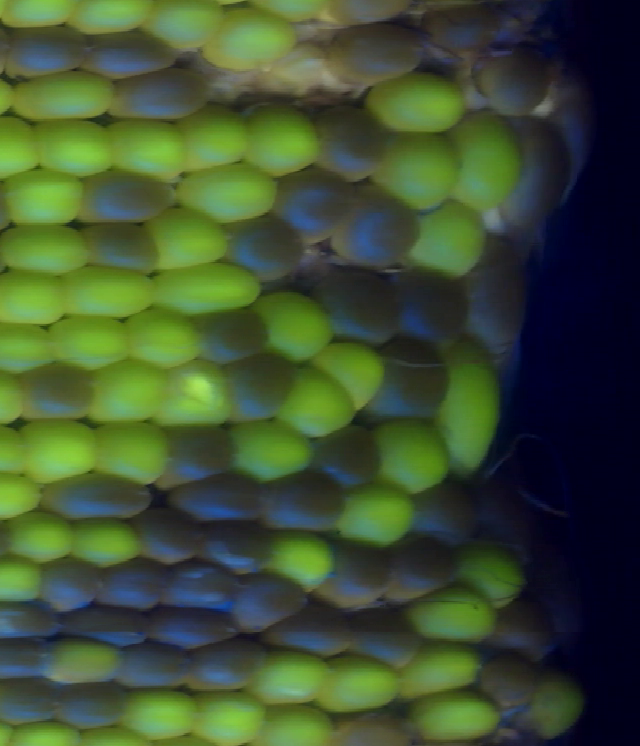fluorescent: (440, 347, 500, 476), (378, 136, 461, 217), (454, 111, 521, 211), (180, 163, 277, 225), (373, 414, 447, 493), (368, 72, 462, 134), (404, 582, 496, 645), (203, 6, 294, 69), (413, 202, 488, 277), (227, 419, 316, 481), (243, 105, 318, 177), (278, 365, 353, 437), (10, 73, 113, 124), (318, 651, 403, 712), (89, 357, 169, 421), (93, 423, 170, 488), (153, 265, 259, 312), (113, 117, 187, 184), (314, 342, 384, 412), (59, 265, 155, 316), (35, 118, 115, 179), (147, 207, 228, 267), (261, 291, 331, 360), (336, 486, 415, 547), (4, 167, 84, 227), (159, 361, 232, 426), (23, 420, 93, 486), (408, 697, 504, 745), (0, 224, 90, 275), (250, 651, 332, 706), (52, 317, 132, 373), (260, 531, 334, 591), (128, 309, 203, 368), (461, 542, 528, 606), (181, 107, 246, 172), (195, 688, 267, 746), (0, 265, 61, 326), (398, 644, 477, 690), (140, 2, 220, 46), (122, 690, 195, 737), (48, 638, 118, 687), (75, 520, 142, 569), (11, 514, 75, 563), (258, 707, 336, 746), (73, 1, 148, 36), (0, 324, 52, 372), (0, 473, 43, 521), (0, 557, 41, 607), (0, 121, 38, 172)
nonfluorescent: (462, 232, 524, 362), (501, 117, 568, 232), (364, 337, 449, 420), (339, 187, 420, 272), (319, 270, 398, 345), (274, 167, 352, 242), (39, 474, 158, 523), (327, 23, 428, 80), (255, 467, 343, 532), (397, 267, 467, 342), (321, 536, 390, 612), (104, 72, 208, 122), (473, 44, 547, 112), (231, 568, 310, 631), (81, 170, 173, 223), (318, 108, 383, 183), (163, 475, 264, 523), (228, 215, 299, 282), (84, 27, 175, 79), (3, 23, 91, 76), (226, 351, 288, 425), (393, 534, 459, 602), (412, 481, 470, 557), (267, 609, 358, 657), (23, 364, 95, 422), (313, 427, 380, 489), (163, 424, 233, 483), (348, 610, 420, 667), (195, 311, 270, 365), (83, 224, 163, 274), (149, 607, 236, 652), (62, 606, 153, 648), (486, 602, 553, 659), (98, 559, 168, 612), (116, 642, 191, 691), (137, 509, 205, 562), (191, 642, 263, 692), (204, 522, 272, 574), (478, 650, 534, 711), (35, 558, 100, 610), (168, 558, 233, 610), (0, 676, 62, 726), (59, 681, 129, 725), (0, 601, 61, 643), (0, 637, 48, 683)
